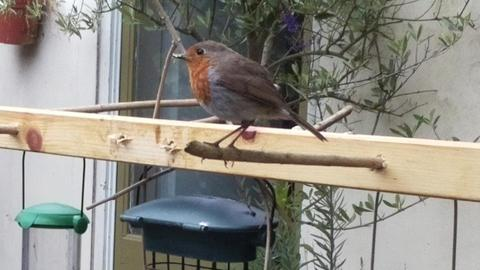robin: (172, 40, 329, 169)
